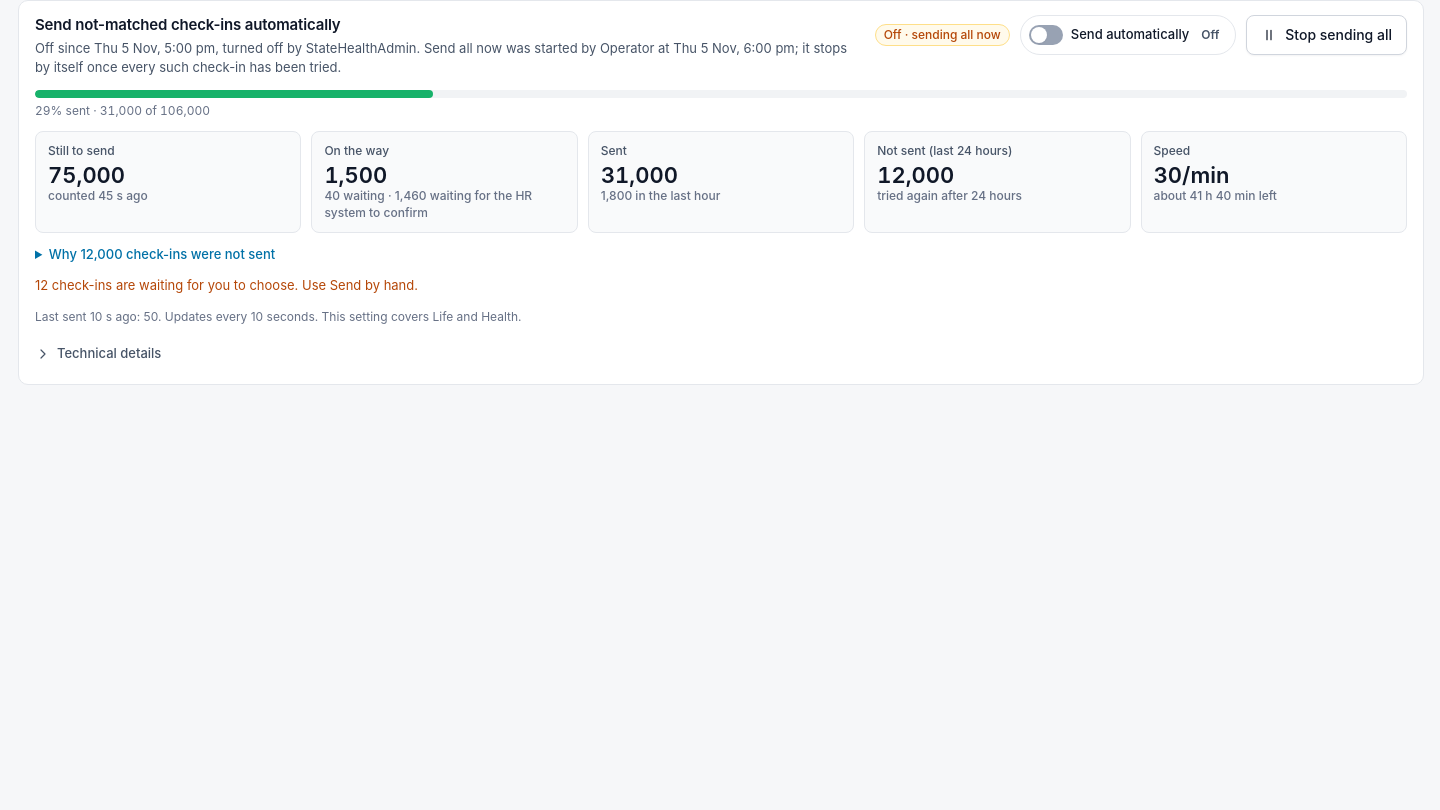
Test: automatic release of unknown-identity punches › lets an administrator stop a running Release all while the switch stays OFF
The image size is (1440, 810).
Check: the text "Off · sending all now" is shown, box left=875, top=24, right=1010, bottom=46
Click the button "Stop sending all" at coordinates (1327, 35), box left=1246, top=15, right=1407, bottom=55
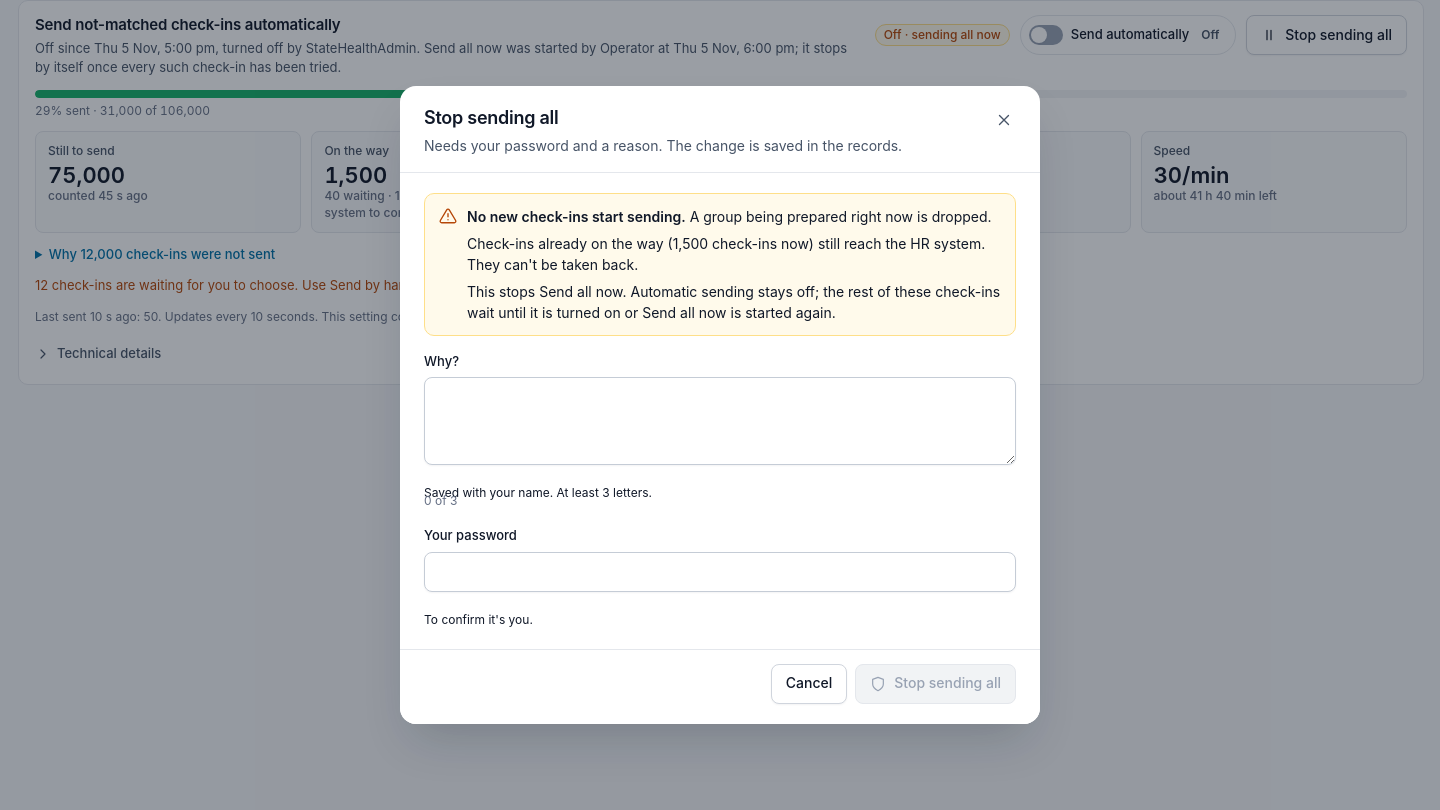
Check: the button "Stop sending all" is disabled, box left=855, top=664, right=1016, bottom=704
Type "Oracle is slow today" into the text box labelled "Why?" at coordinates (720, 421), box left=424, top=377, right=1016, bottom=465
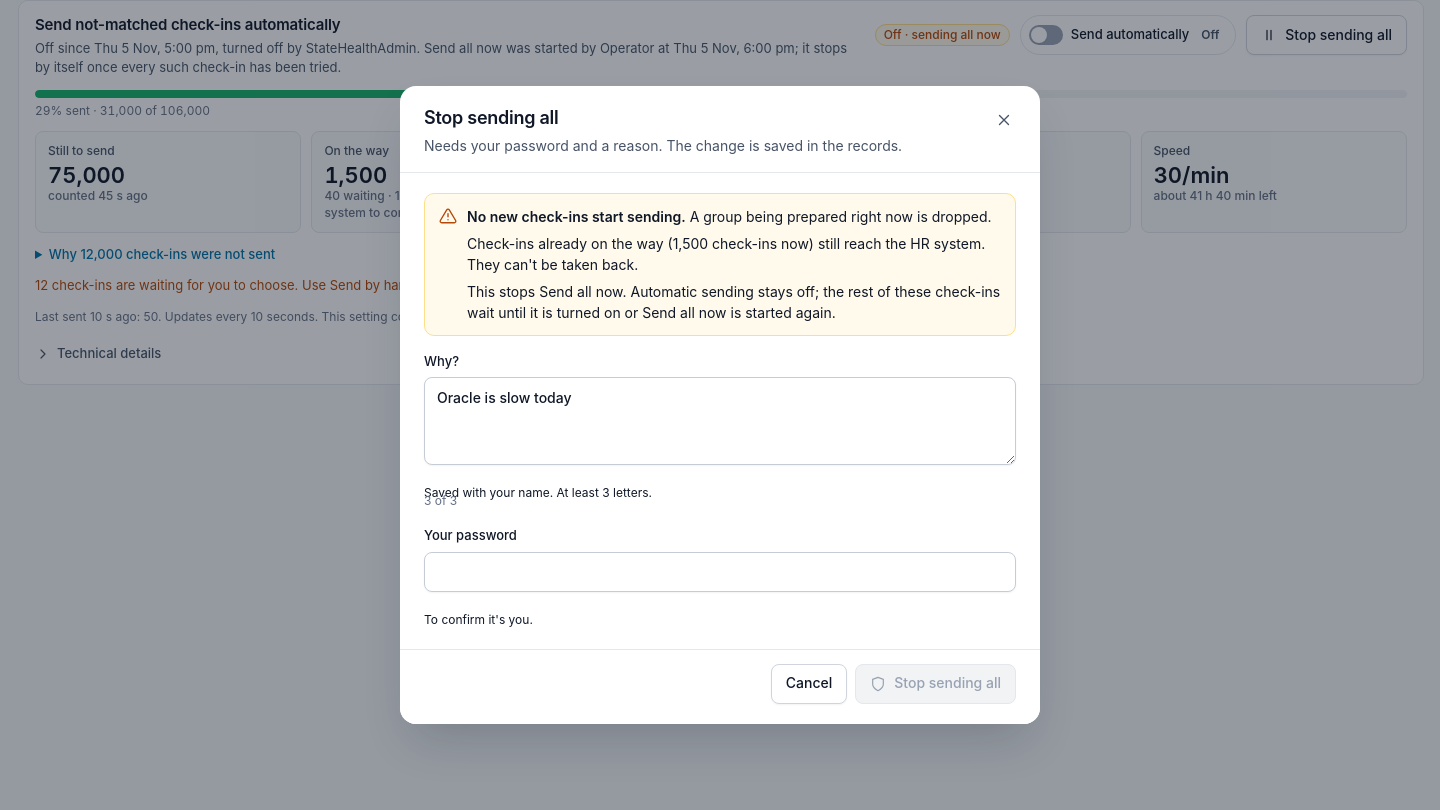
Type "right-password" into the password field labelled "Your password" at coordinates (720, 572), box left=424, top=552, right=1016, bottom=592
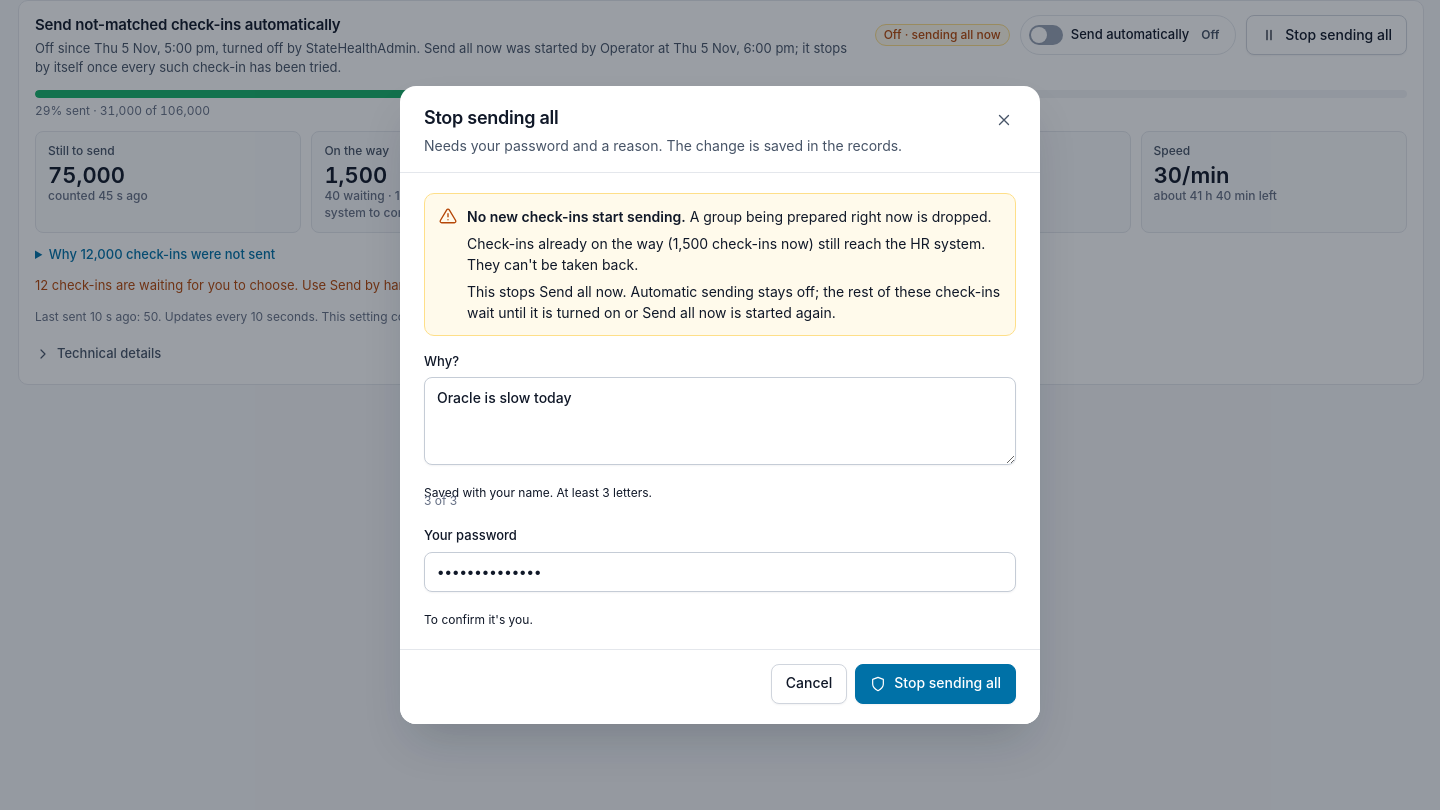
Click the button "Stop sending all" at coordinates (936, 684), box left=855, top=664, right=1016, bottom=704
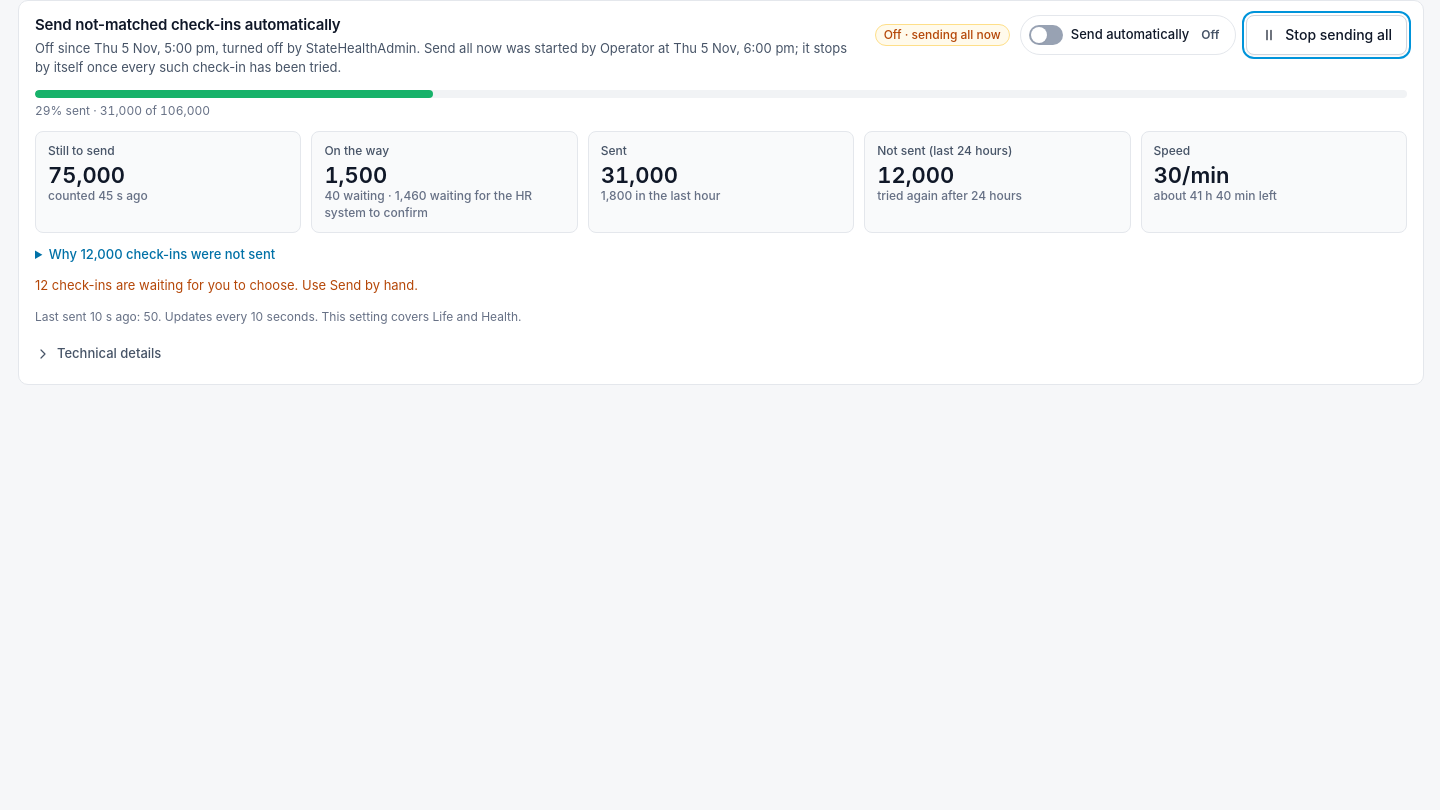
Check: the dialog is gone
// The switch itself still offers only Turn on.
Click the switch labelled "Send automatically Off" at coordinates (1128, 35), box left=1020, top=15, right=1236, bottom=55
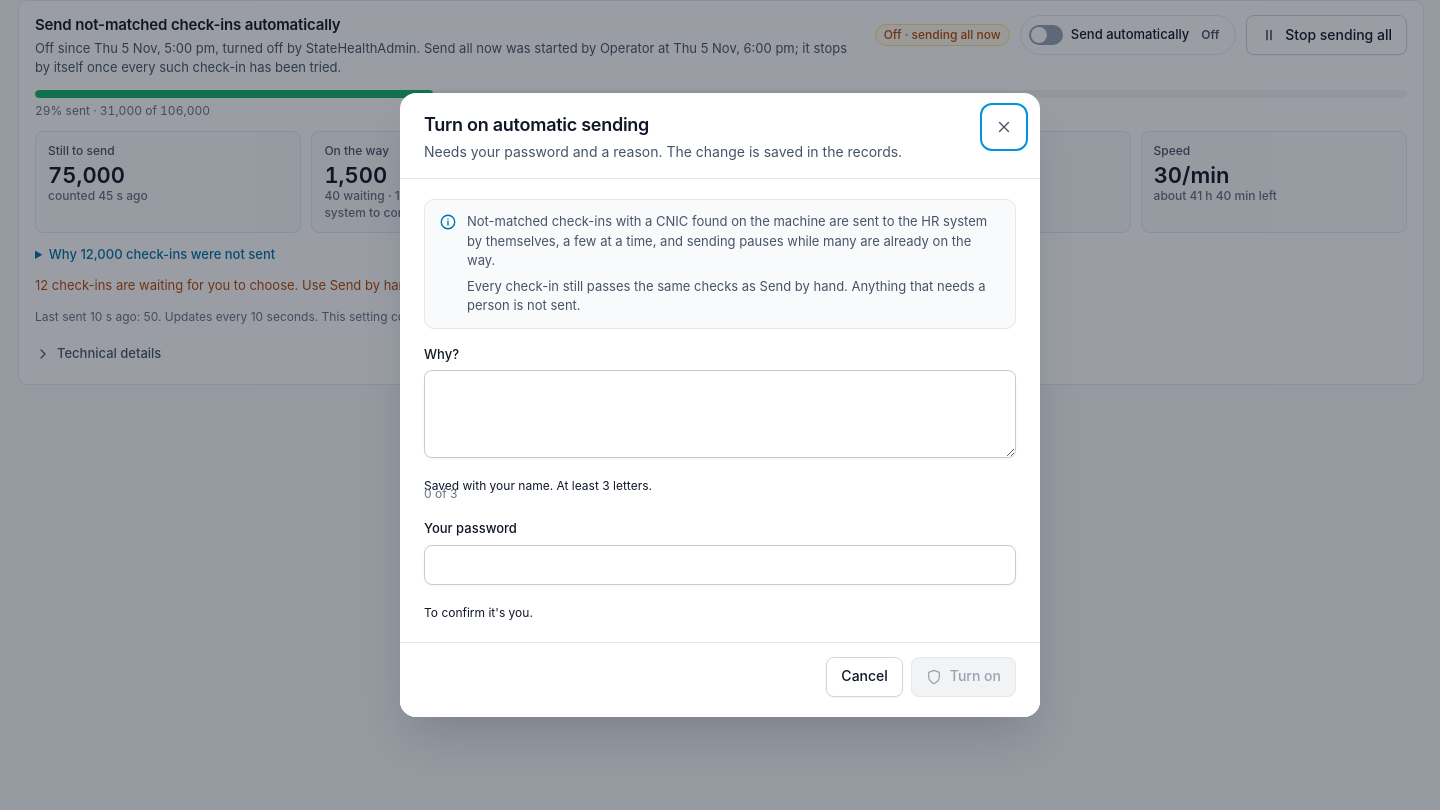
Check: the dialog named "Turn on automatic sending" is shown, box left=400, top=93, right=1040, bottom=717
